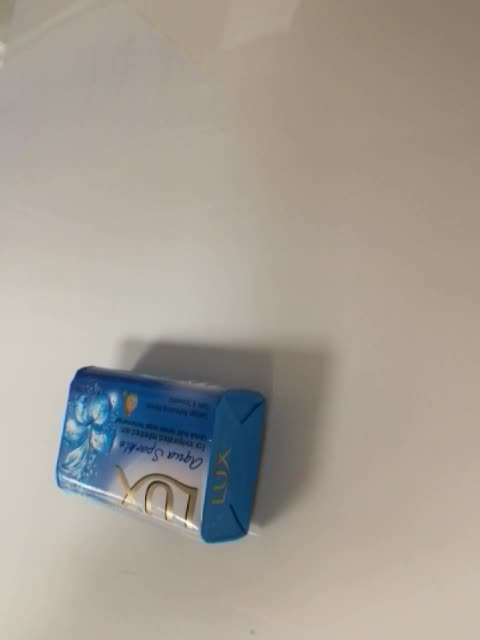soap: (53, 363, 268, 546)
